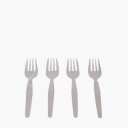Fork: (19, 54, 42, 119), (87, 54, 109, 119), (42, 56, 64, 119), (65, 57, 86, 120)
